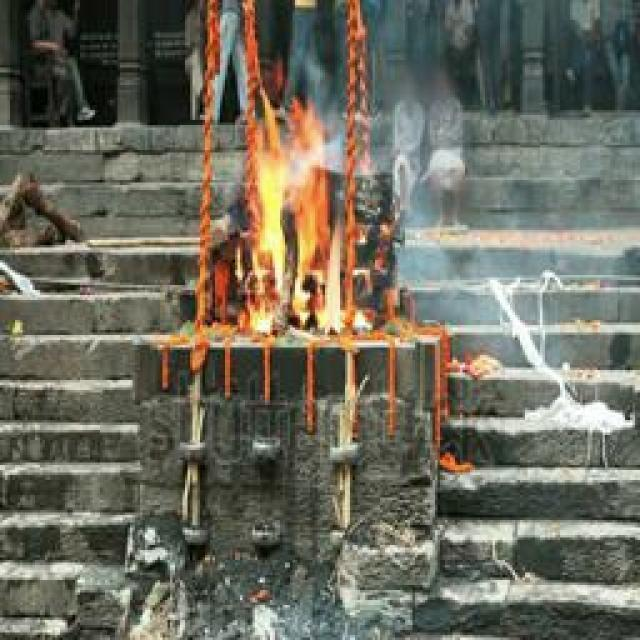Fire: (242, 108, 345, 338)
